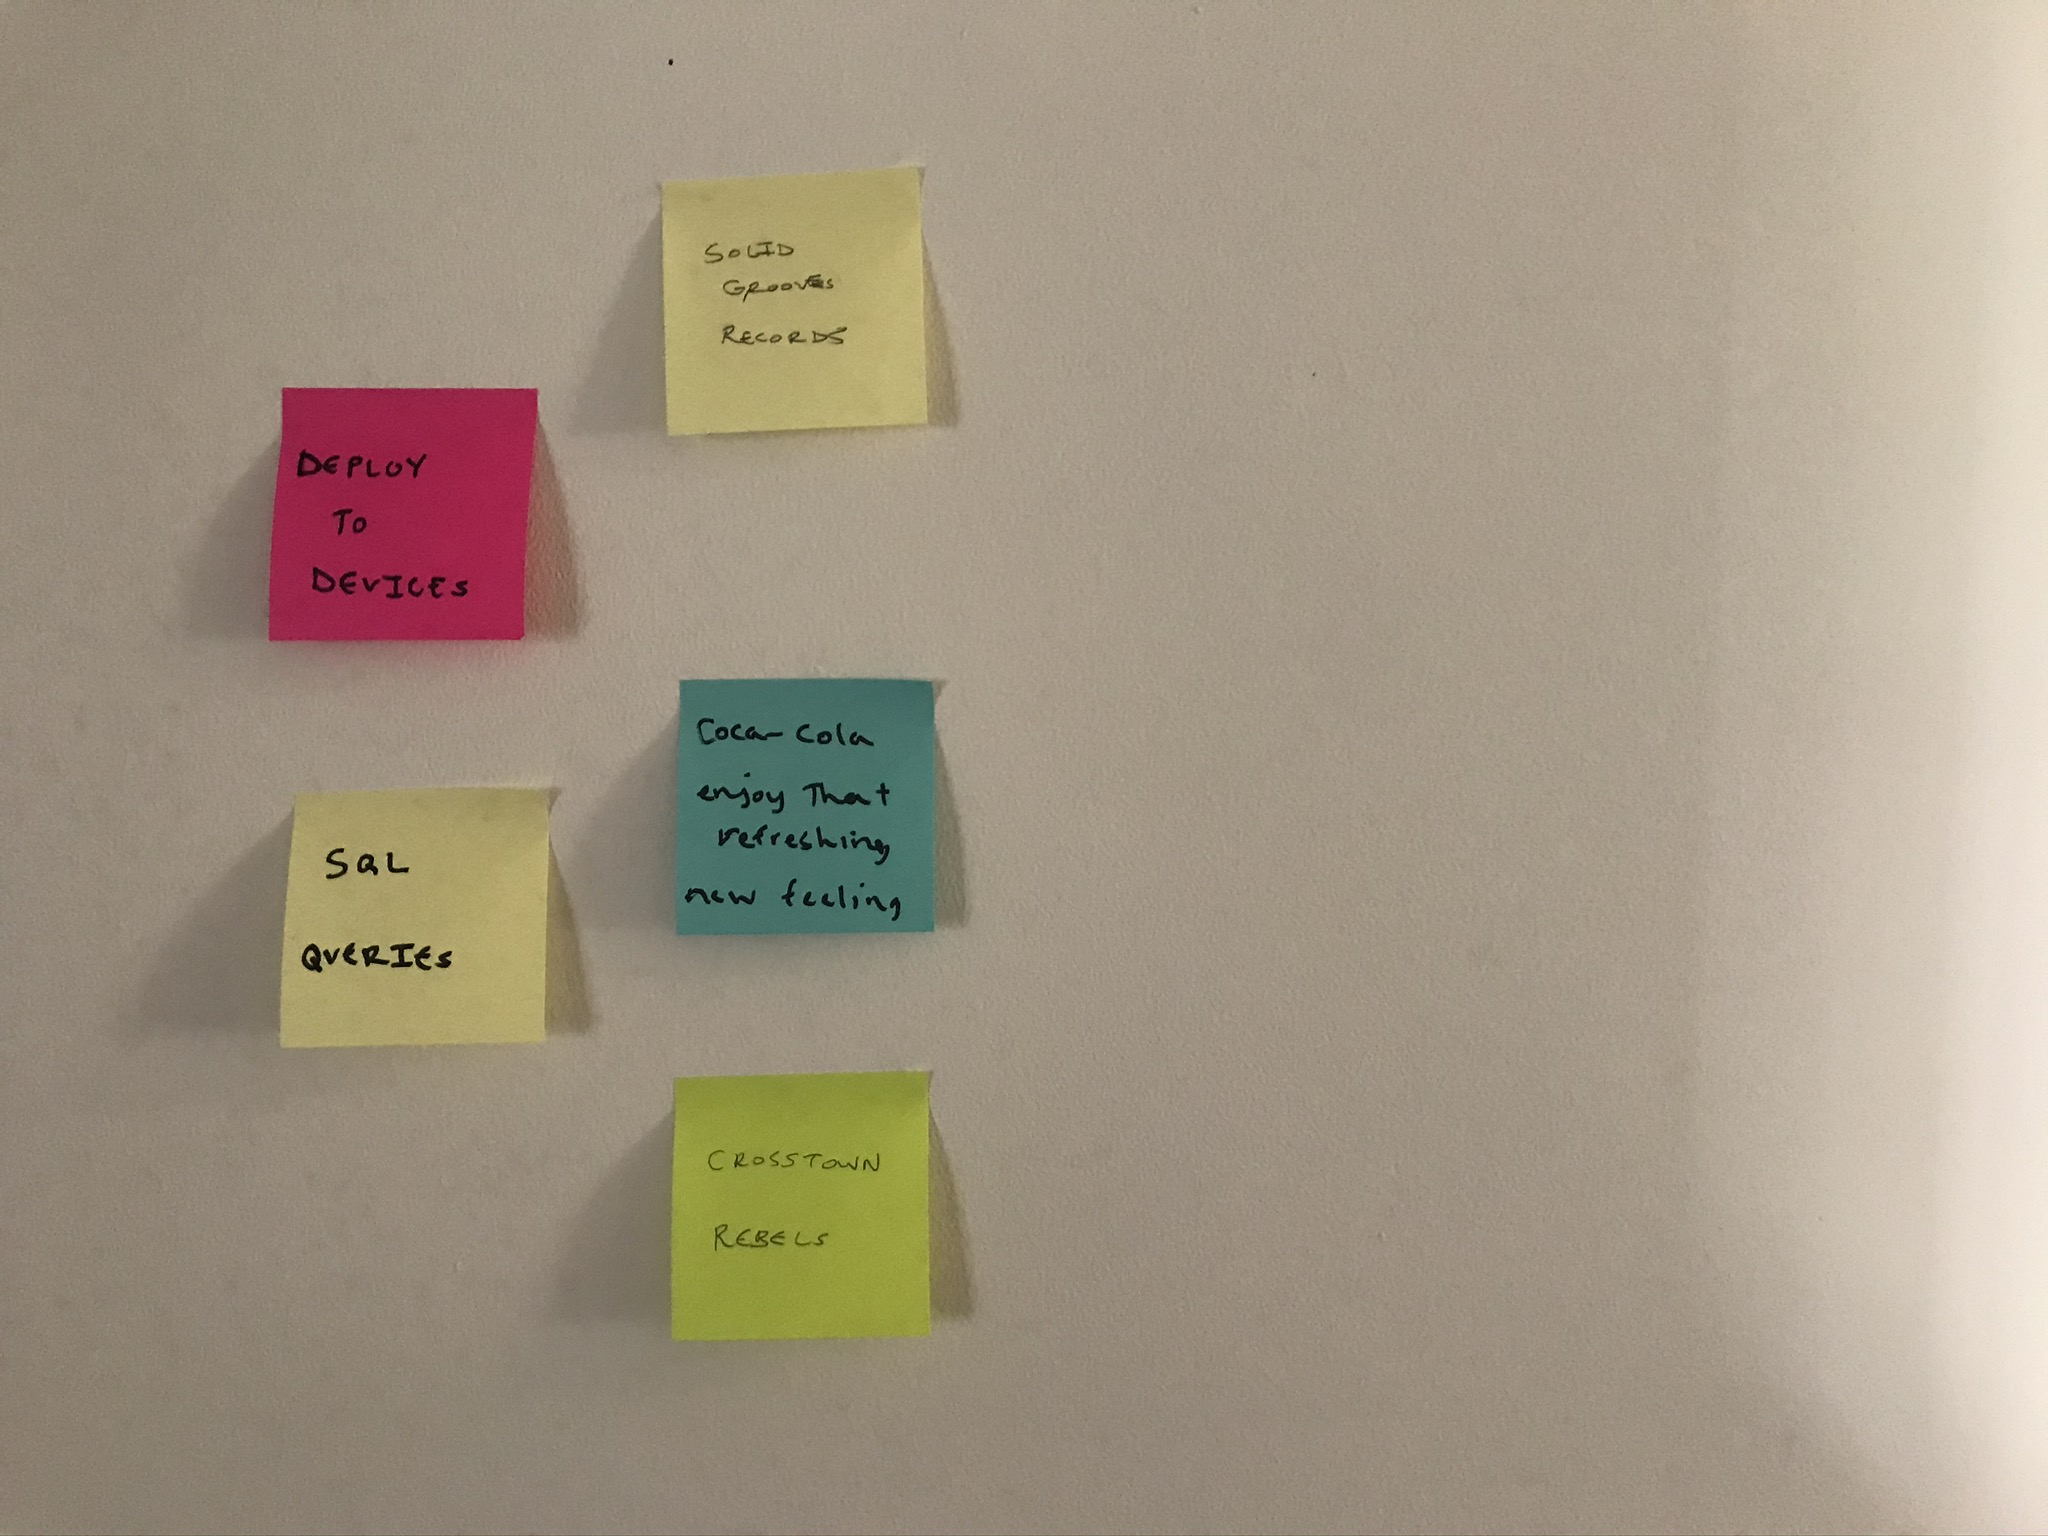sticky: (656, 165, 930, 437), (273, 784, 552, 1050), (672, 1070, 935, 1342), (268, 387, 539, 645), (672, 678, 939, 937)
